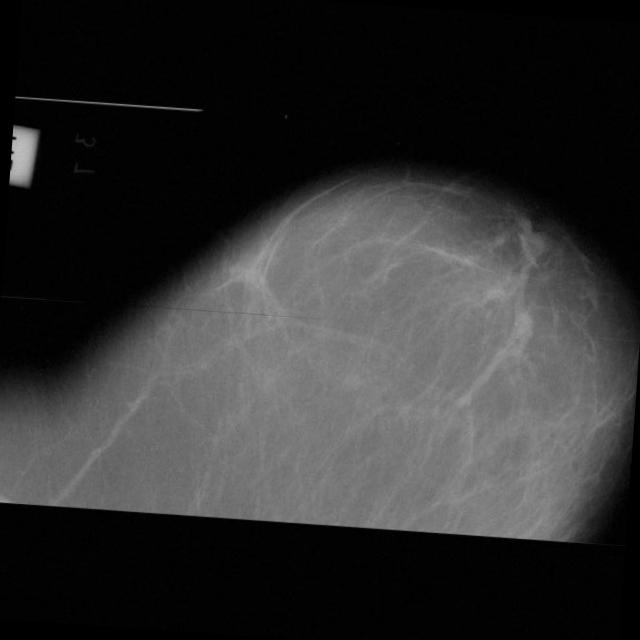MISC: (494, 304, 546, 356)
